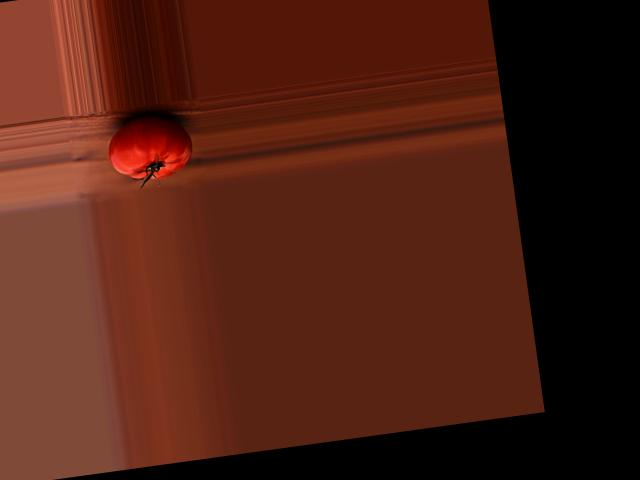tomato: (103, 110, 195, 184)
